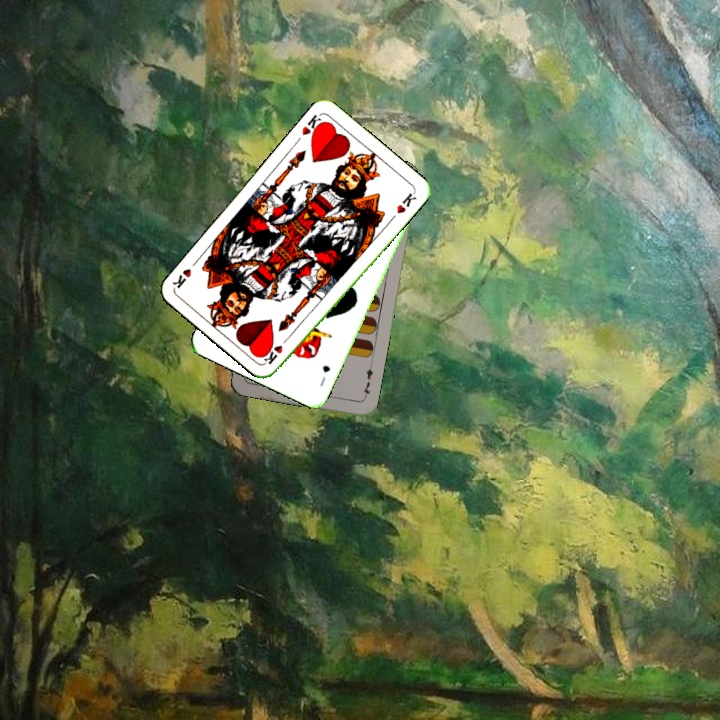E7: (359, 362, 376, 402)
GU: (316, 361, 333, 389)
HK: (261, 332, 293, 367), (298, 110, 328, 141)
